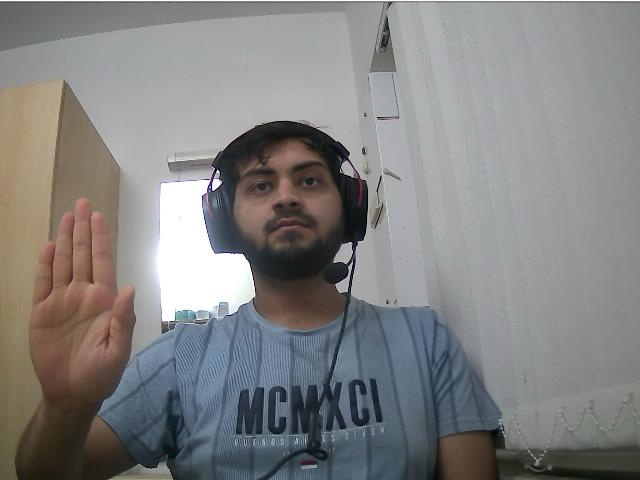up: (24, 199, 132, 401)
